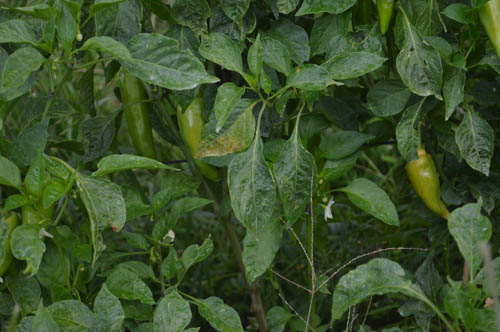ChiliPepper: (118, 75, 161, 163), (177, 99, 221, 185), (409, 156, 448, 215)
